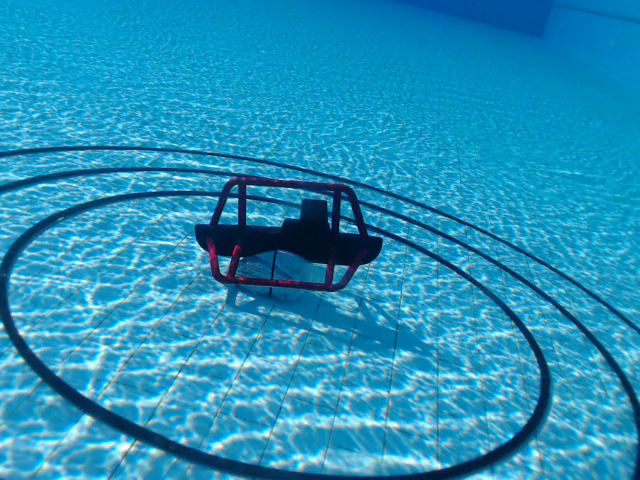submarine: (193, 174, 387, 296)
